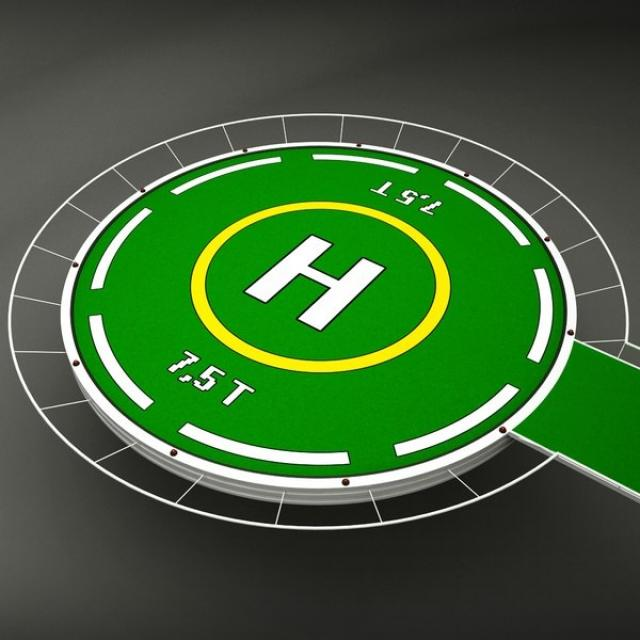helipad: (177, 193, 457, 378)
